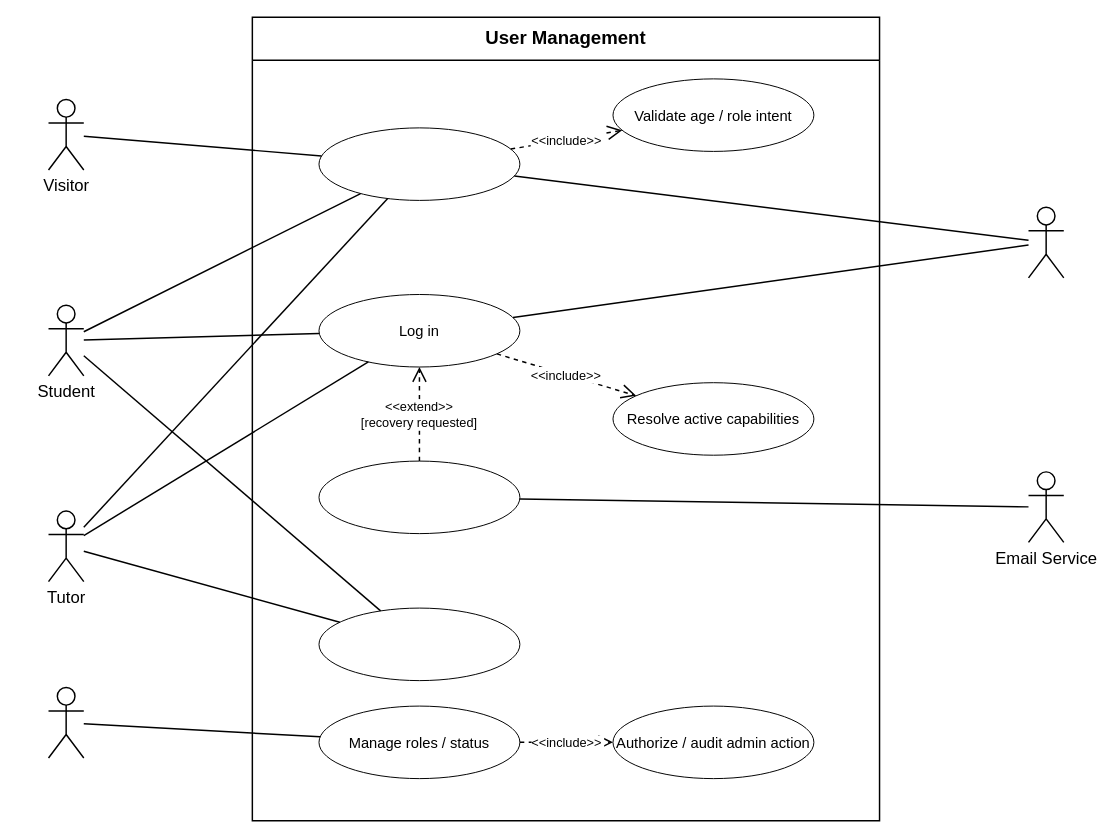
This 1119x839 diagram has some shape labels left out. The box of each missing label's shape, as (x1, y1, x2, y2) in pixels:
Administrator: (47, 686, 84, 758)
Log out: (318, 607, 520, 681)
Recover account access: (318, 460, 520, 534)
Register adult account: (318, 127, 520, 200)
Supabase Auth: (1027, 206, 1064, 278)
